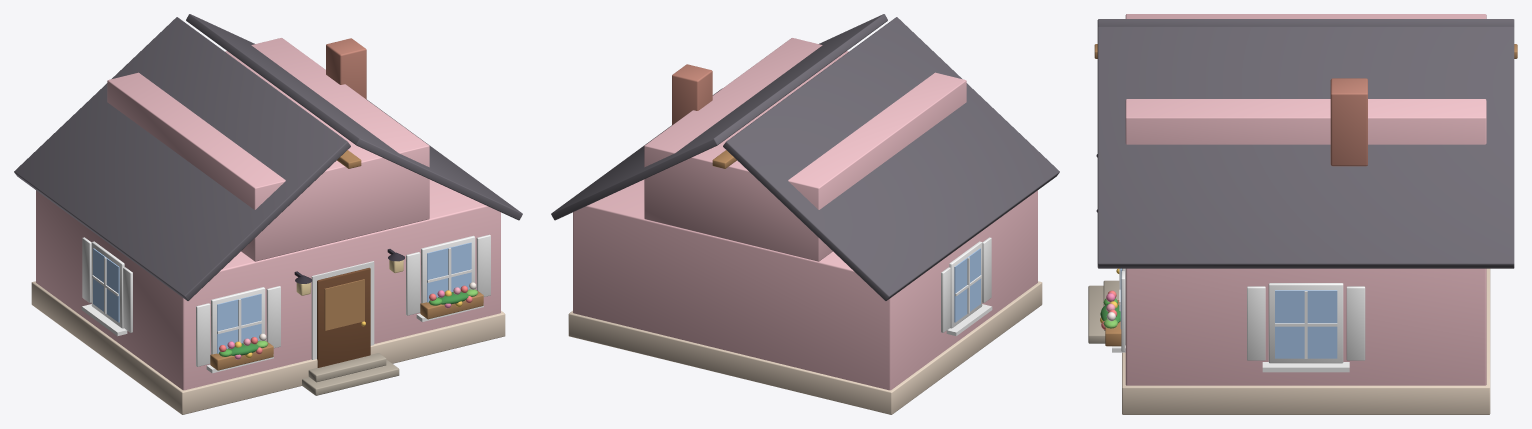
Rendered from cottage_pink.glb.
3 renders of one model, left to right at view 1: azimuth 30°, elevation 25°; view 2: azimuth 150°, elevation 25°; view 3: azimuth 270°, elevation 25°, orthographic. The views are drawn at different scales.
Visible parts, largest first — view 1: cottage_pink; view 2: cottage_pink; view 3: cottage_pink.
Part boxes in pixels (bbox=[...]): cottage_pink: bbox=[14, 14, 522, 414]; cottage_pink: bbox=[551, 14, 1059, 414]; cottage_pink: bbox=[1088, 14, 1517, 414].
Size of the model in its own units: 7.66 by 5.26 by 6.9.
